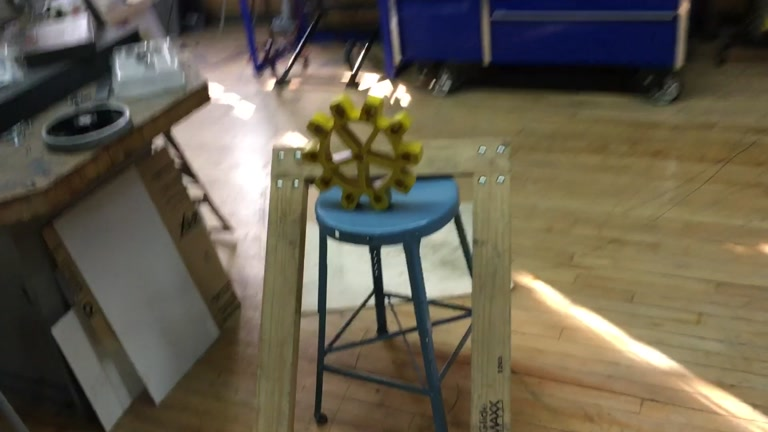gear: (304, 98, 424, 210)
